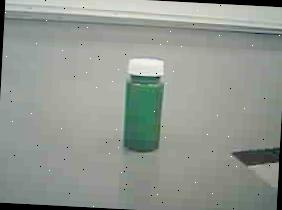Bottle C: (112, 50, 178, 164)
